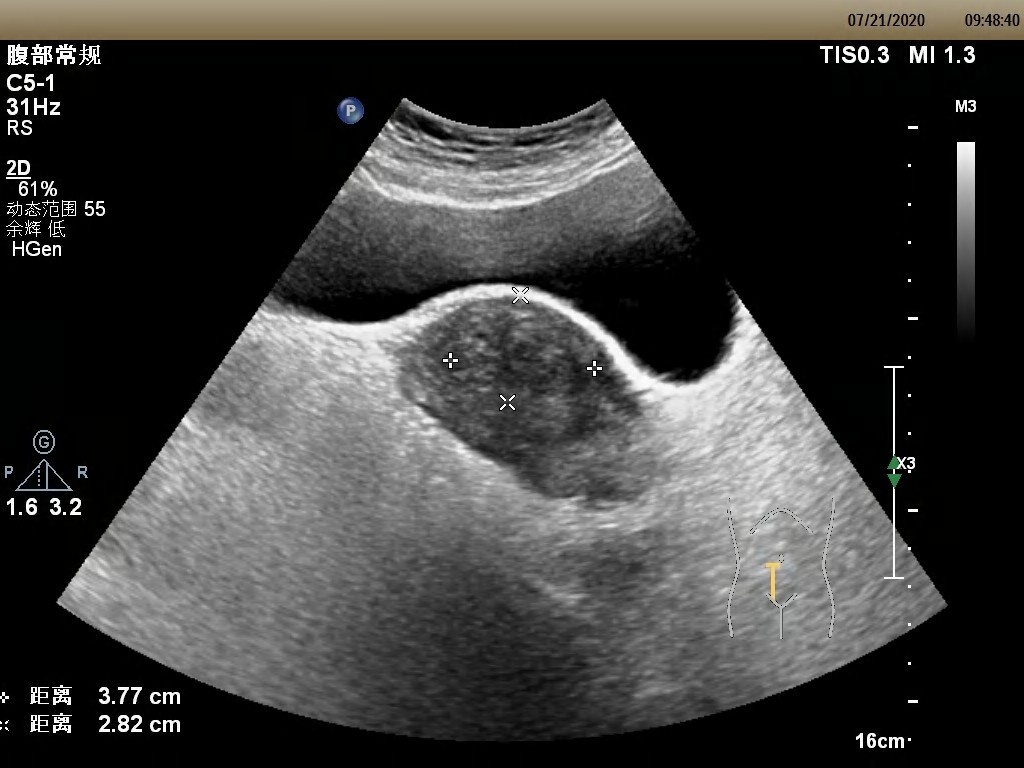肌瘤: (443, 300, 596, 400)
